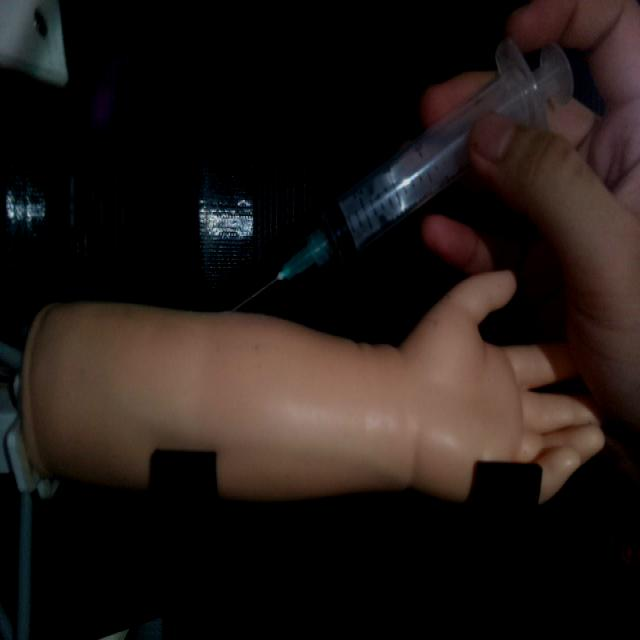Above 30 degrees: (227, 34, 575, 314)
